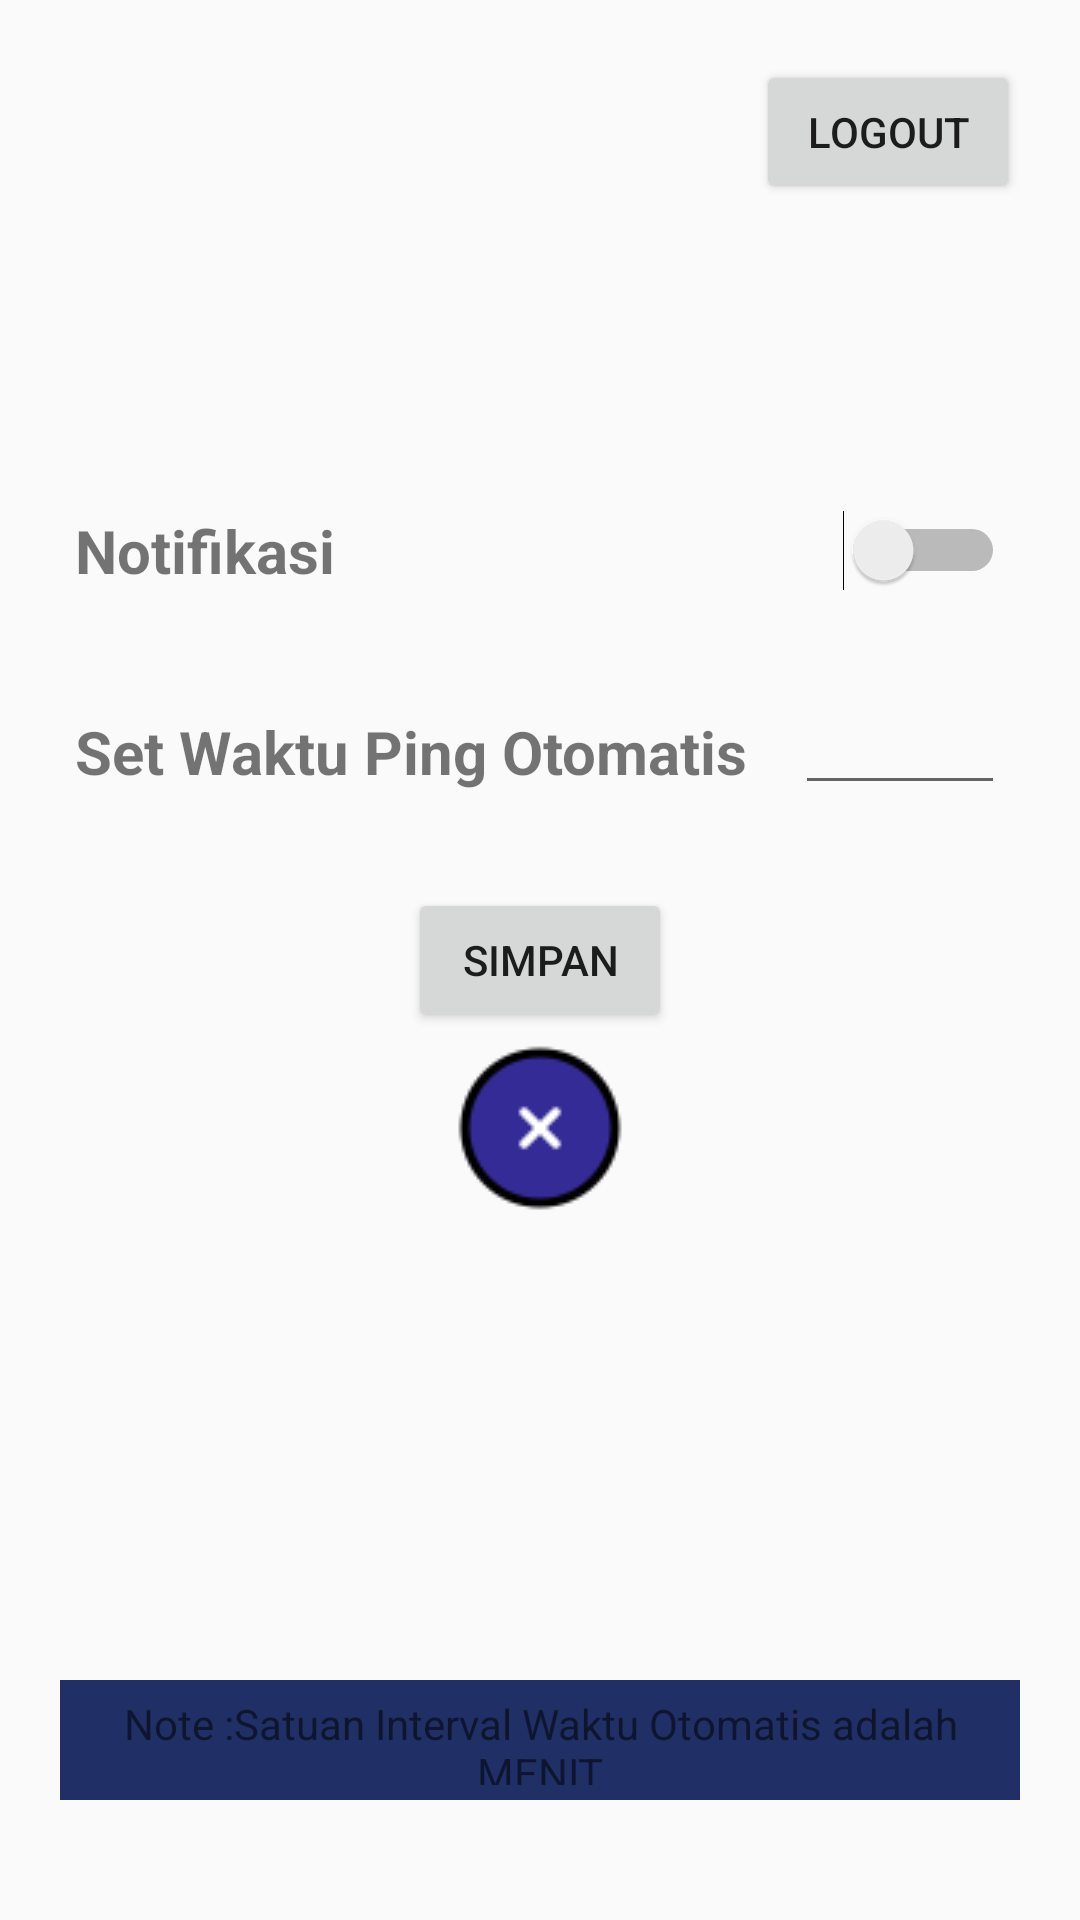

Point at icon controls on the screen. Image size 1080*1920, points as [x,y].
cancelicon: [540,1128]
